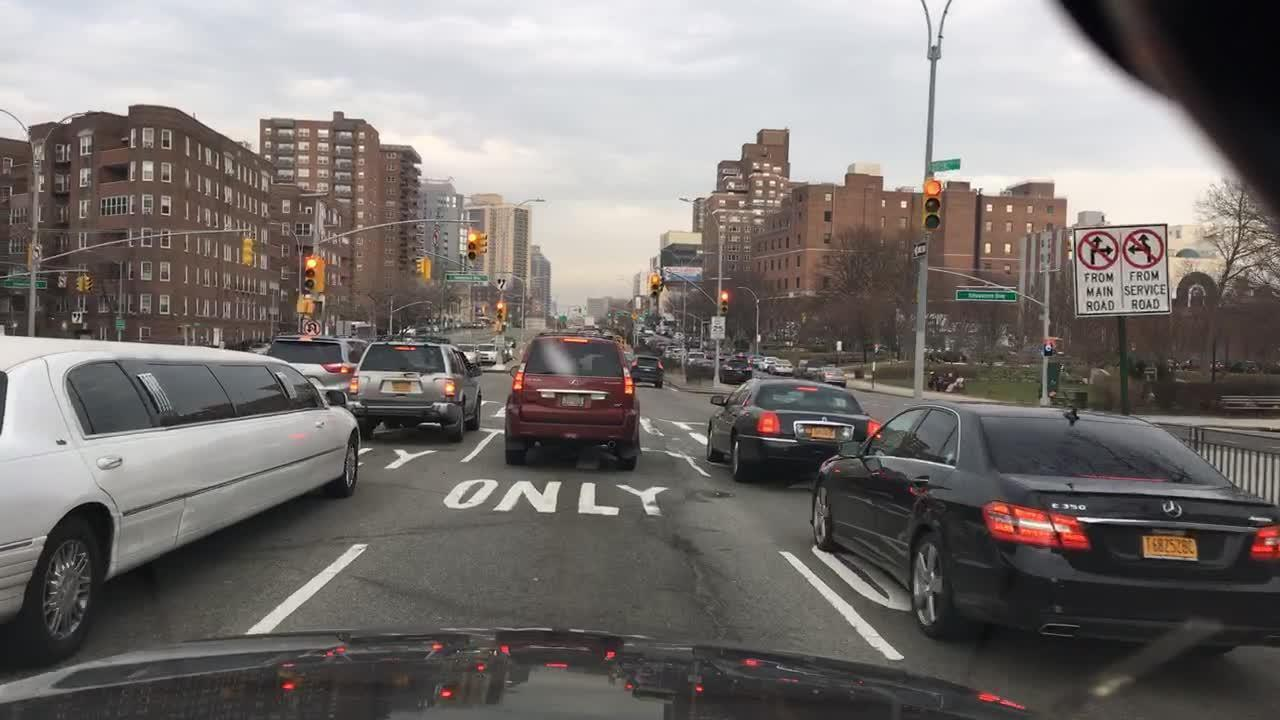Mercedes: (1153, 494, 1190, 524)
lexus: (565, 376, 587, 390)
lincoln: (820, 415, 829, 424)
